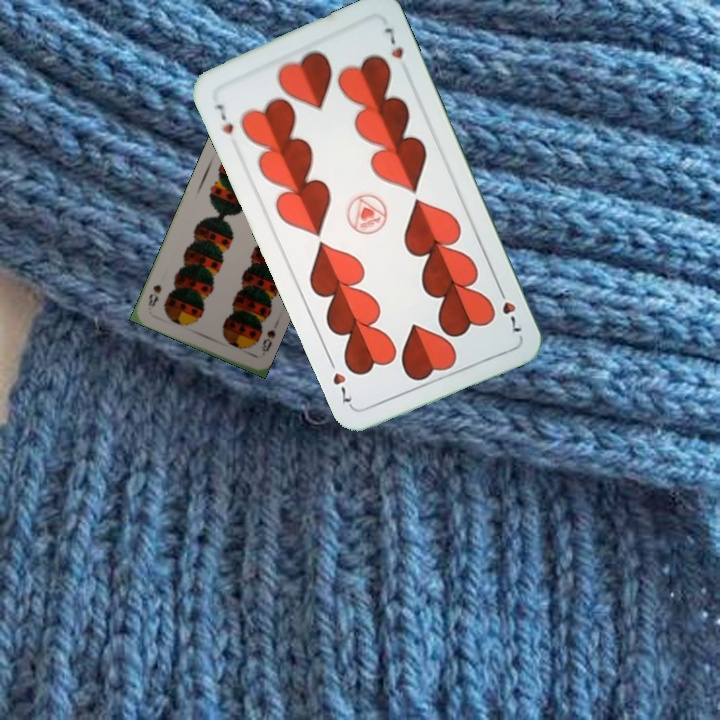H7: (493, 282, 524, 335), (211, 100, 236, 137)
S8: (257, 326, 278, 358)
